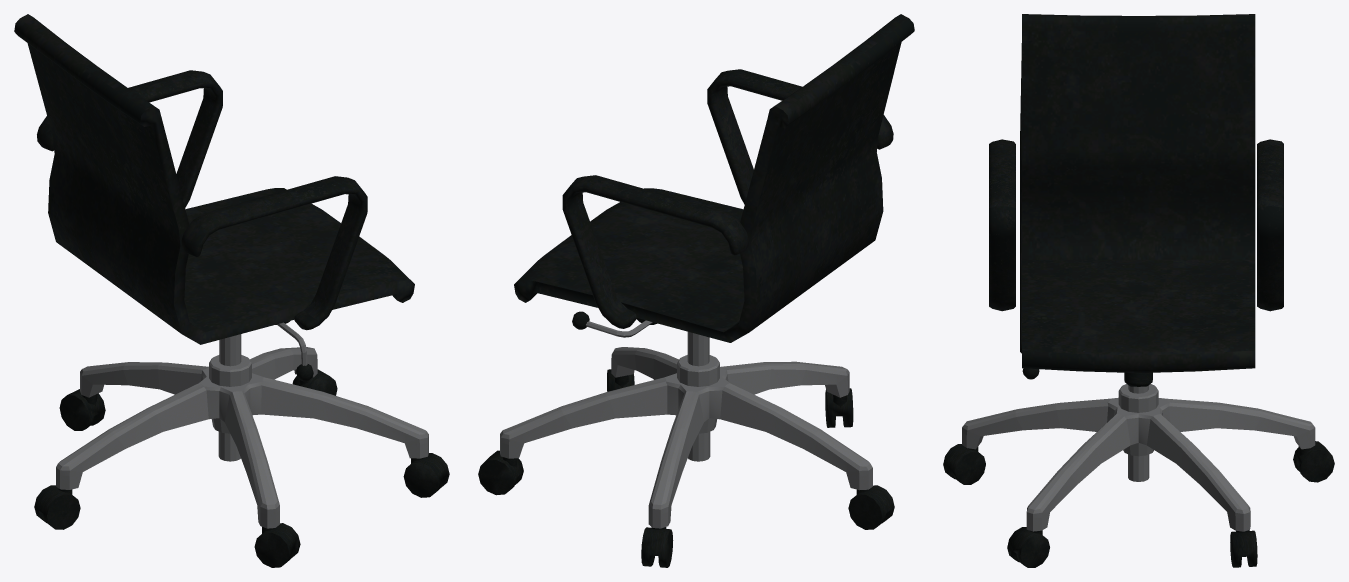
The model's file is SM_conference_chair_a.fbx.
3 renders of one model, left to right at view 1: azimuth 30°, elevation 25°; view 2: azimuth 150°, elevation 25°; view 3: azimuth 270°, elevation 25°, orthographic. The views are drawn at different scales.
Parts seen in each view (by area): view 1: polySurface752, polySurface751; view 2: polySurface752, polySurface751; view 3: polySurface752, polySurface751.
Part boxes in pixels (x1,y1,x2,y2): polySurface752: (14,14,449,567); polySurface751: (56,322,428,528); polySurface752: (478,14,914,567); polySurface751: (500,320,872,528); polySurface752: (943,14,1334,567); polySurface751: (962,384,1315,531).
Bounding box in the file's own units: 0.9125 × 1.14 × 0.9584.
